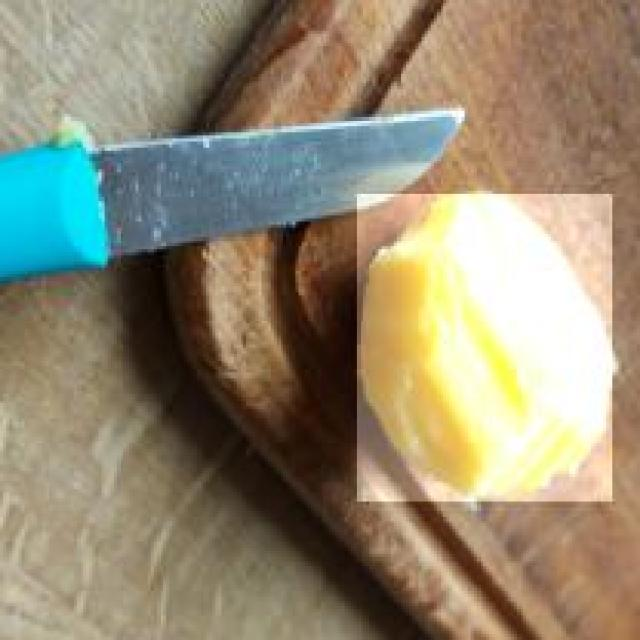butter: (355, 190, 617, 502)
